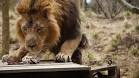lion: (7, 5, 90, 60)
